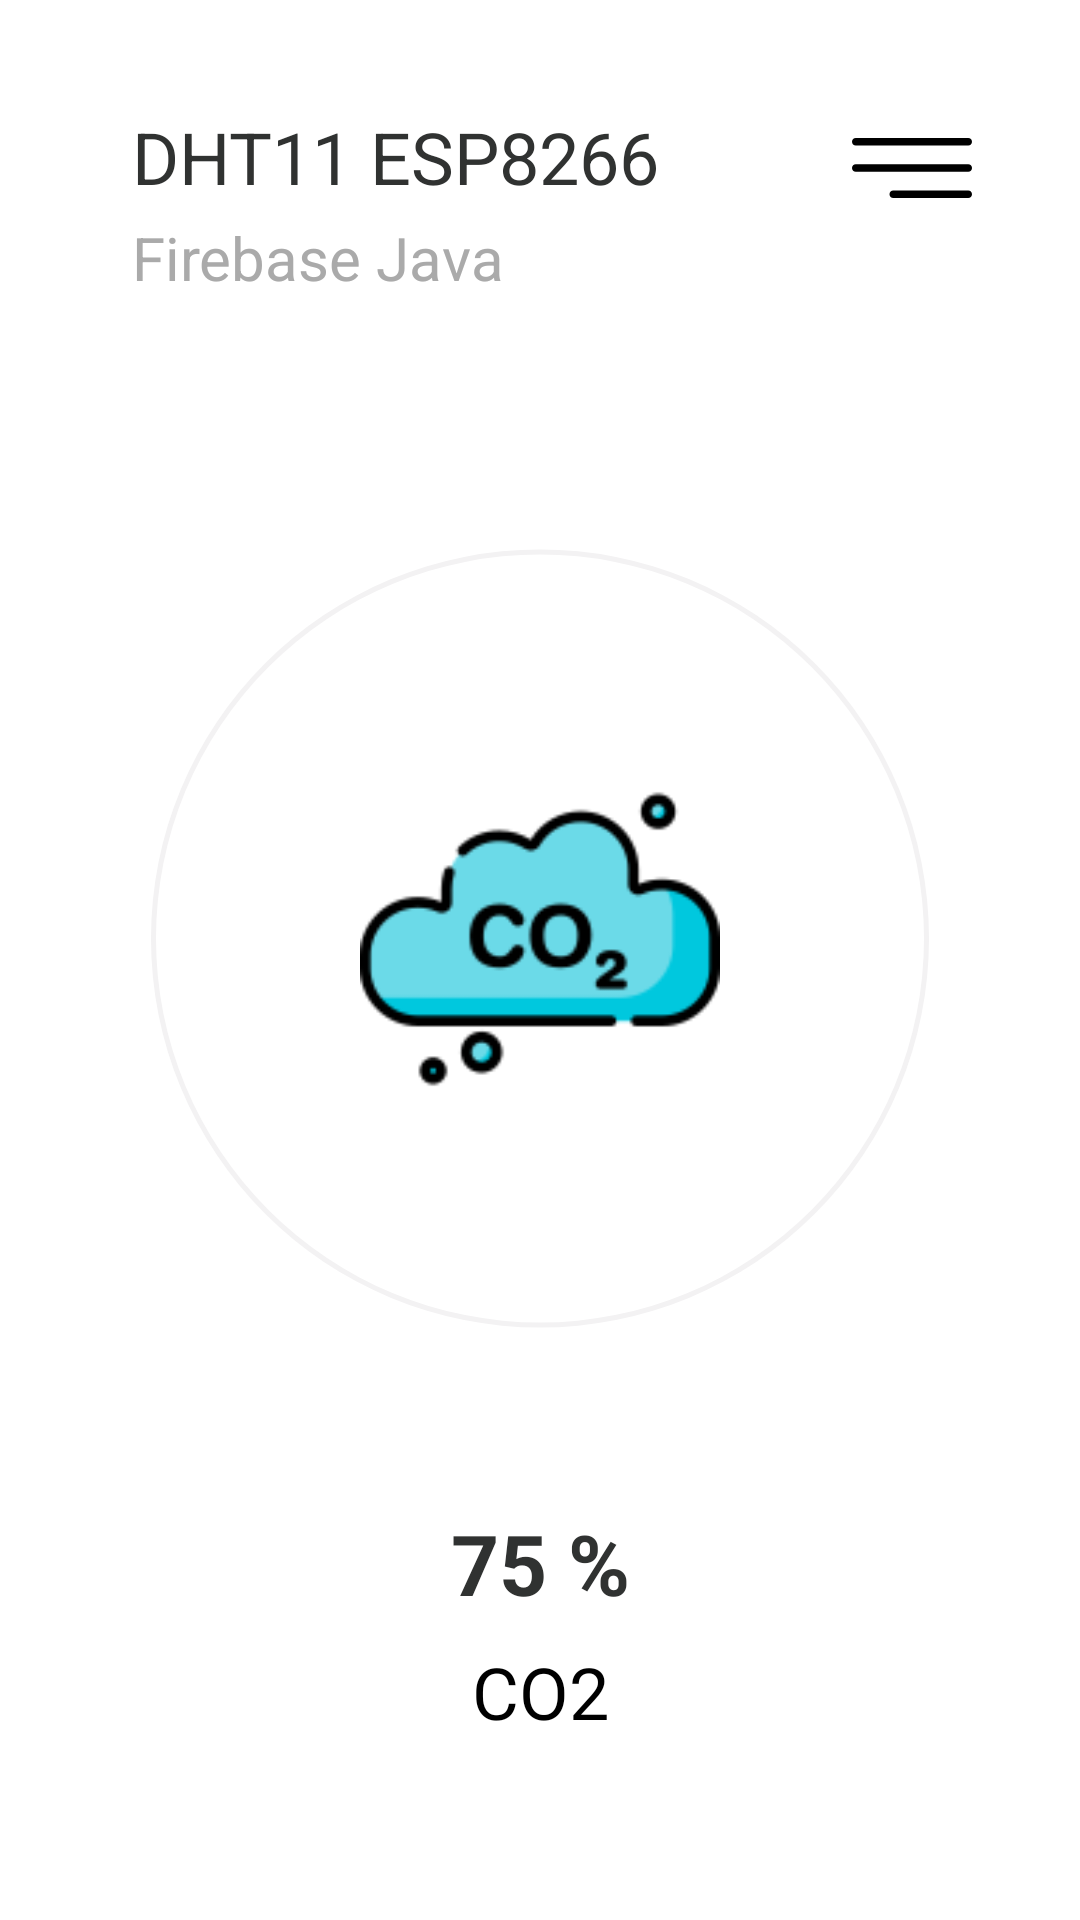

Locate icon controls on the screen. Image size 1080 x 1920, boxes as (x1, y1, x2, y2).
menu: (852, 138, 972, 198)
